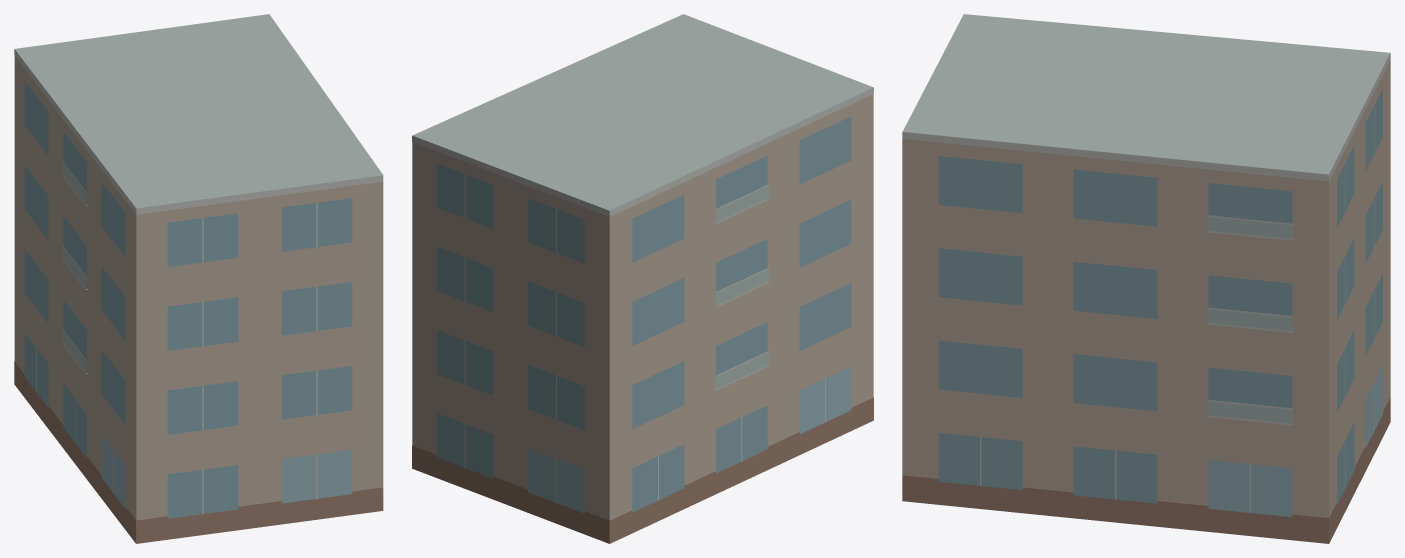
File: survey-upis-32851084.glb
3 renders of one model, left to right at view 1: azimuth 30°, elevation 25°; view 2: azimuth 150°, elevation 25°; view 3: azimuth 270°, elevation 25°, orthographic. The views are drawn at different scales.
Parts seen in each view (by area): view 1: survey-upis-32851084.tmp; view 2: survey-upis-32851084.tmp; view 3: survey-upis-32851084.tmp.
Boxes of the visible parts, box(x1,y1,x2,y2) form: survey-upis-32851084.tmp: box(14, 14, 383, 543); survey-upis-32851084.tmp: box(412, 14, 873, 543); survey-upis-32851084.tmp: box(902, 14, 1390, 543).
Size of the model in its own units: 11.95 by 12.8 by 15.34.
